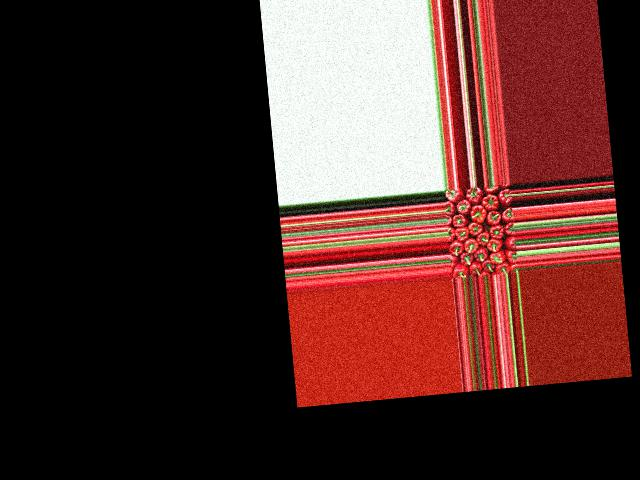bell_pepper: (452, 263, 467, 278)
